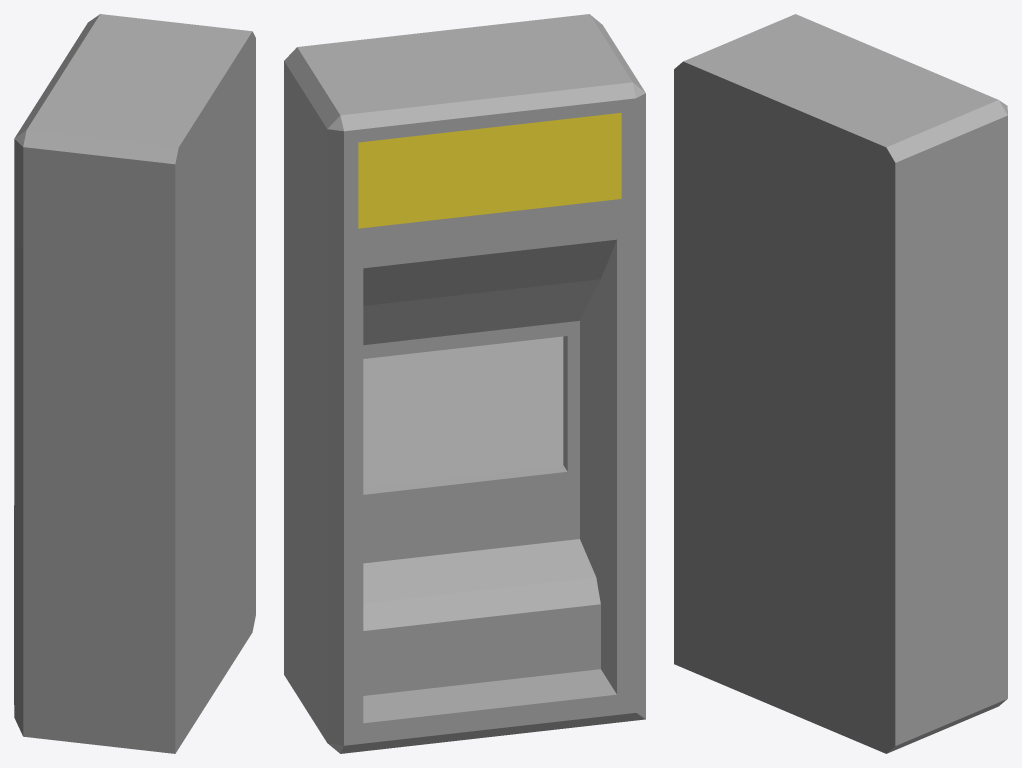
Rendered from Atm.fbx.
3 views of the same model, side by side, from view 1: azimuth 30°, elevation 25°; view 2: azimuth 150°, elevation 25°; view 3: azimuth 270°, elevation 25° (orthographic). The views are drawn at different scales.
Visible parts, largest first — view 1: Atm; view 2: Atm; view 3: Atm.
Part boxes in pixels (x1,y1,x2,y2): Atm: (14, 14, 255, 753); Atm: (284, 14, 645, 753); Atm: (674, 14, 1007, 753).
Size of the model in its own units: 76.71 by 76.67 by 154.
